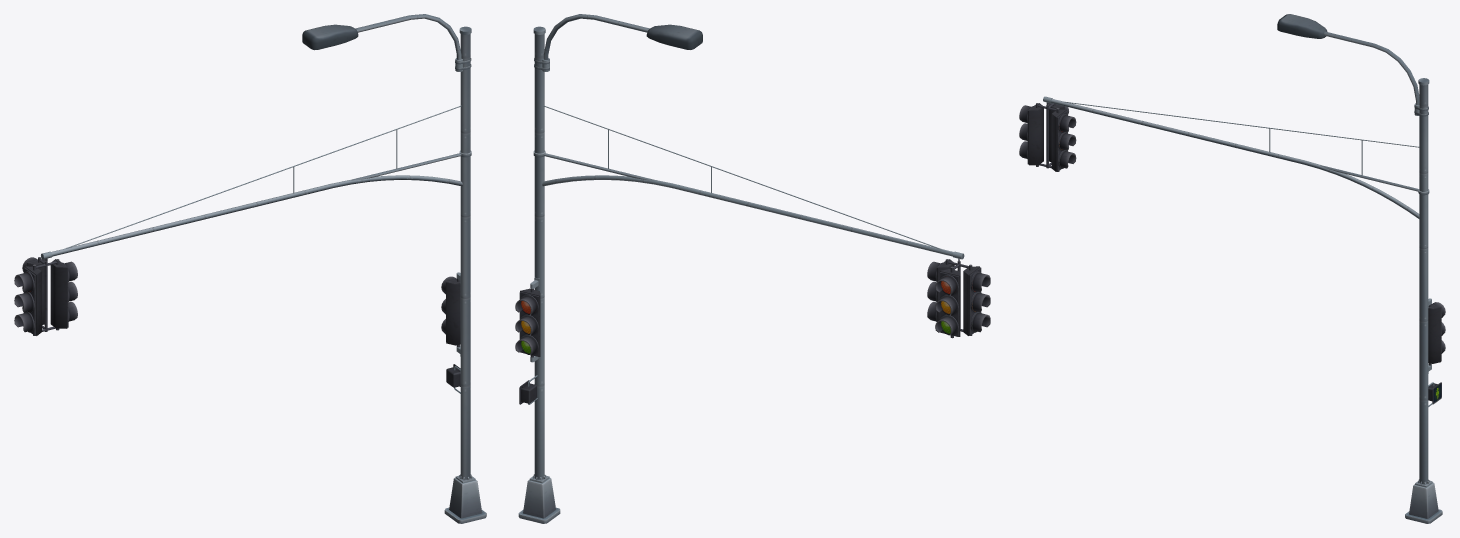
File: Traffic_Lights2.fbx
3 views of the same model, side by side, from view 1: azimuth 30°, elevation 25°; view 2: azimuth 150°, elevation 25°; view 3: azimuth 330°, elevation 25° (orthographic). The views are drawn at different scales.
Parts seen in each view (by area): view 1: traffic_lights_2_Mesh; view 2: traffic_lights_2_Mesh; view 3: traffic_lights_2_Mesh.
Boxes of the visible parts, left/top/right/bottom form: traffic_lights_2_Mesh: left=14, top=14, right=486, bottom=523; traffic_lights_2_Mesh: left=515, top=14, right=990, bottom=523; traffic_lights_2_Mesh: left=1019, top=14, right=1445, bottom=523.
Size of the model in its own units: 696 by 750 by 63.42.
